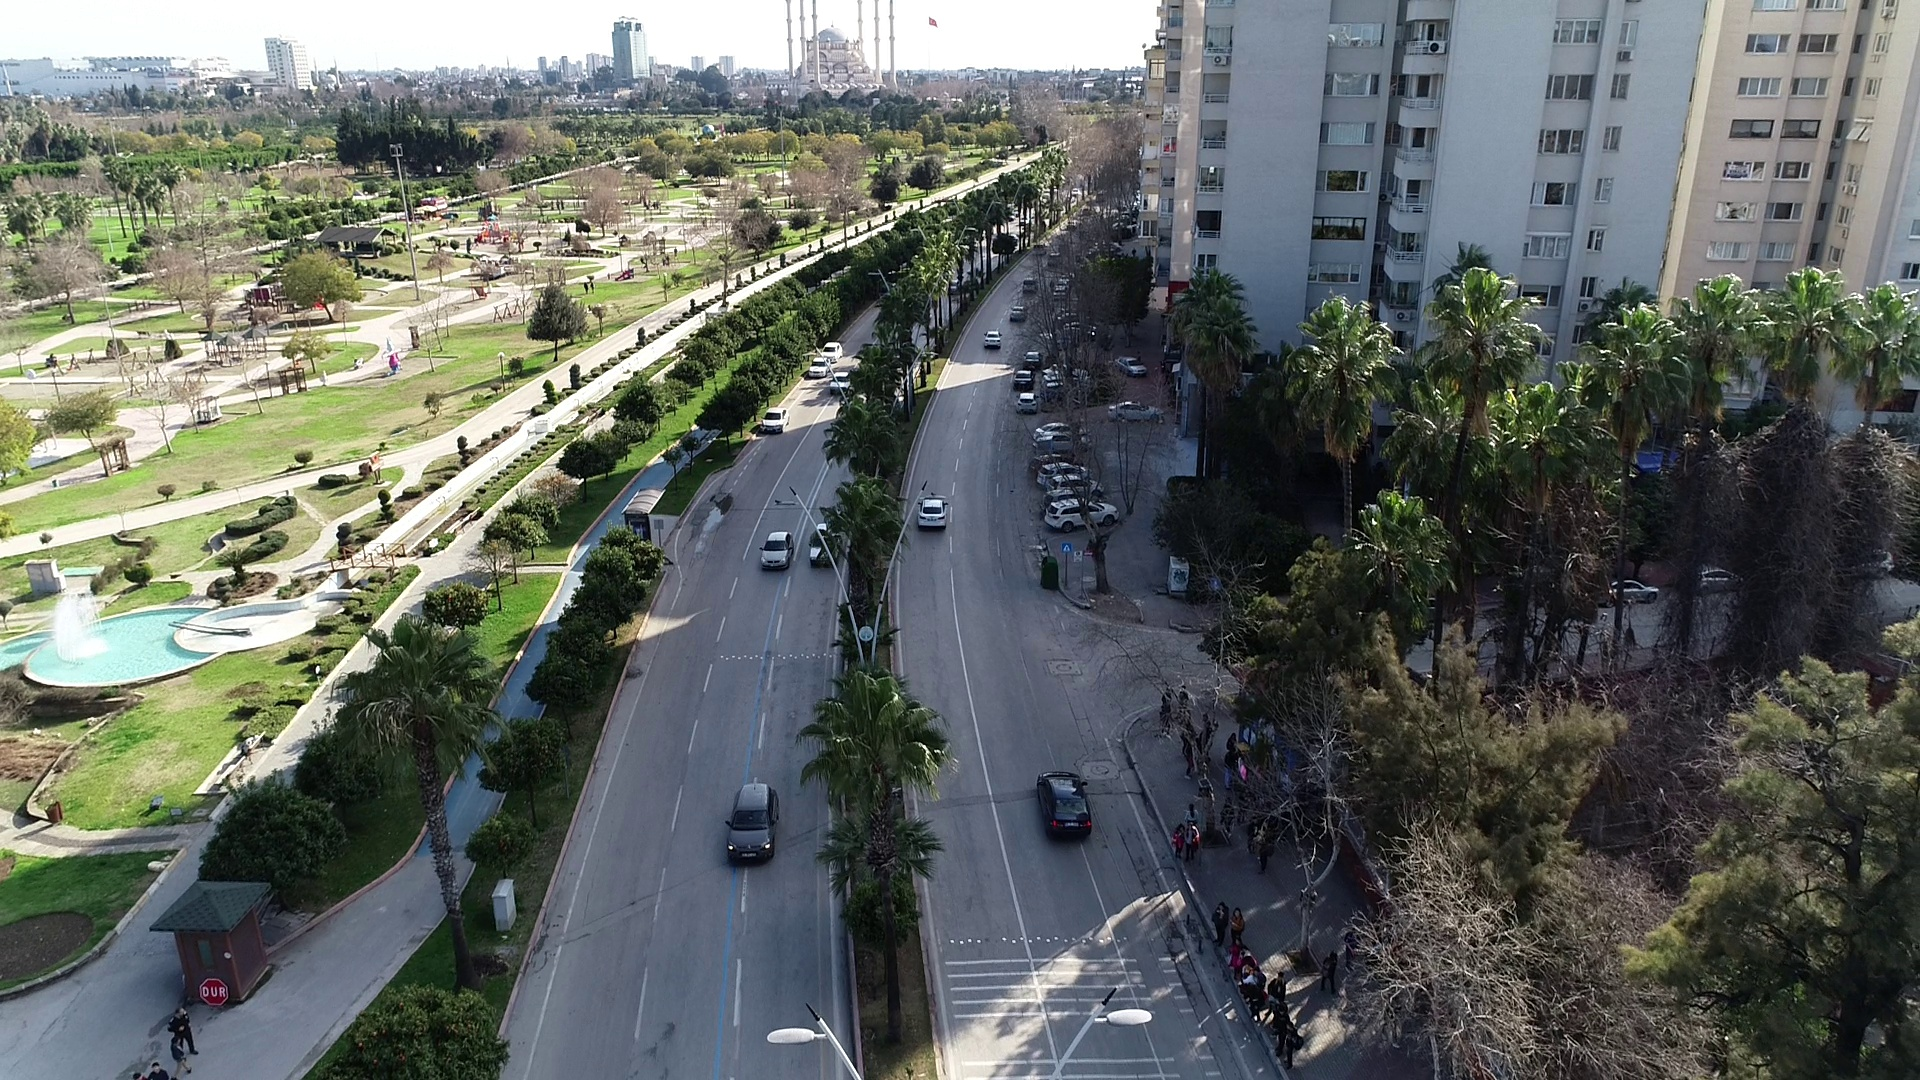car: (1035, 764, 1100, 847), (724, 777, 781, 867), (1041, 497, 1126, 531), (1100, 397, 1171, 427), (758, 527, 798, 571), (810, 519, 842, 569), (915, 491, 953, 531), (1035, 460, 1090, 487), (1110, 352, 1152, 383), (759, 402, 791, 437), (1010, 367, 1038, 391), (817, 339, 845, 362), (1015, 390, 1040, 415), (829, 370, 853, 395), (807, 355, 830, 380), (981, 328, 1004, 350), (1020, 346, 1041, 367), (1008, 304, 1027, 322), (1021, 275, 1038, 293)
person: (161, 1000, 207, 1060), (165, 1031, 200, 1080), (1266, 968, 1291, 1024), (1318, 946, 1343, 999), (1282, 1018, 1307, 1070), (1228, 906, 1252, 956), (1273, 1003, 1295, 1056), (1210, 897, 1231, 949), (1183, 821, 1205, 861), (1158, 684, 1175, 735), (145, 1054, 175, 1080), (1244, 812, 1262, 855), (1222, 746, 1240, 791), (1170, 821, 1186, 859), (1181, 800, 1201, 824)
